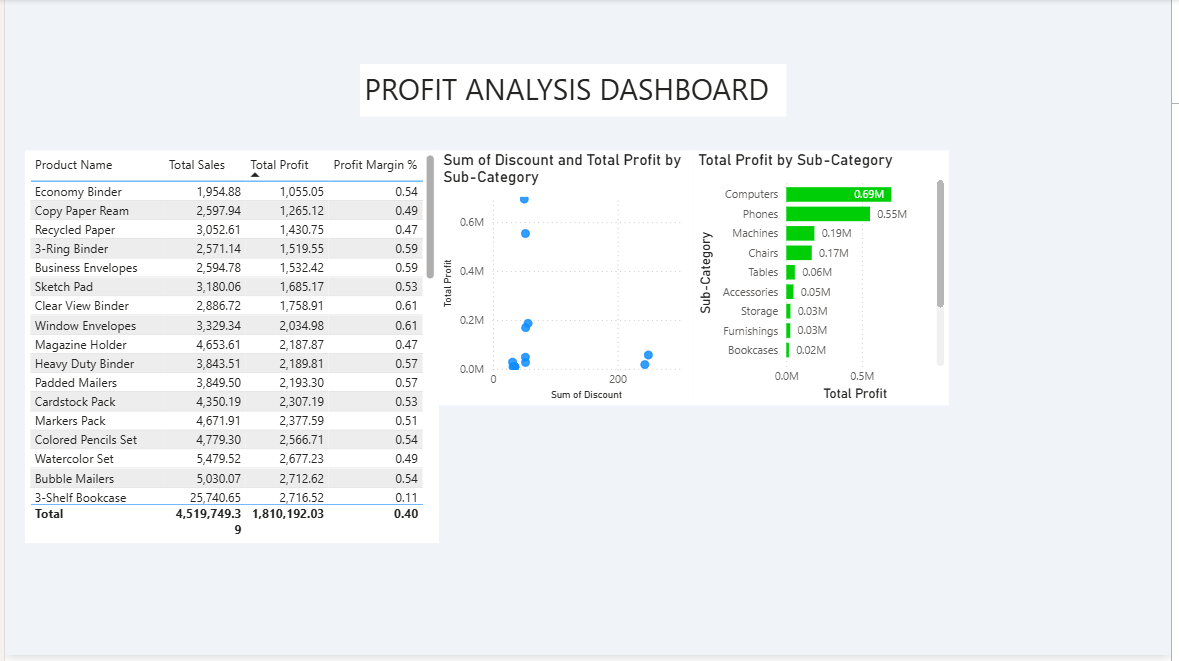

The page's visual inventory and layout, read from the dashboard file:
{"tool":"powerbi","page":{"name":"Profit Analysis","canvas":[1280,720],"ordinal":1},"visuals":[{"type":"clusteredBarChart","fields":{"Category":["Orders.Sub-Category"],"Y":["Orders.Total Profit"]},"box":[743.7,440.5,279.9,279.9],"z":0},{"type":"tableEx","fields":{"Values":["Orders.Product Name","Orders.Total Sales","Orders.Total Profit","Orders.Profit Margin %"]},"box":[10,290,454.4,430],"z":1000},{"type":"scatterChart","fields":{"X":["Sum(Orders.Discount)"],"Y":["Orders.Total Profit"],"Category":["Orders.Sub-Category"]},"box":[463.8,440.5,279.9,279.9],"z":2000},{"type":"textbox","box":[389.7,71.4,467.9,57.6],"z":3000}]}

Visuals, with their boxes in screenshot pixels (x1, y1, x2, y2), scaled from the page's 1280x720 canvas onto the 1179x661 screenshot:
clusteredBarChart - Orders.Sub-Category x Orders.Total Profit: [685,404,943,660]
tableEx - Orders.Product Name x Orders.Total Sales: [9,266,428,660]
scatterChart - Sum(Orders.Discount) x Orders.Total Profit: [427,404,685,660]
textbox: [359,66,790,118]
